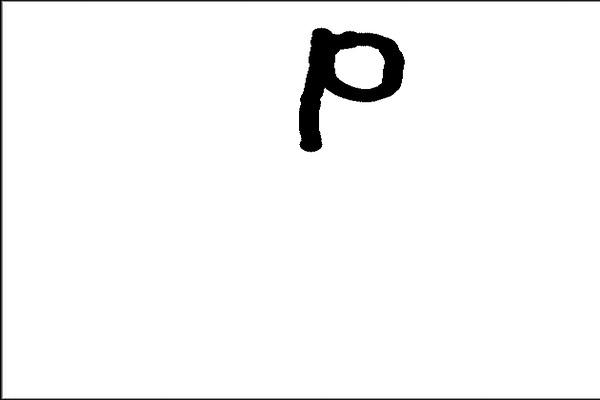P: (291, 20, 407, 162)
